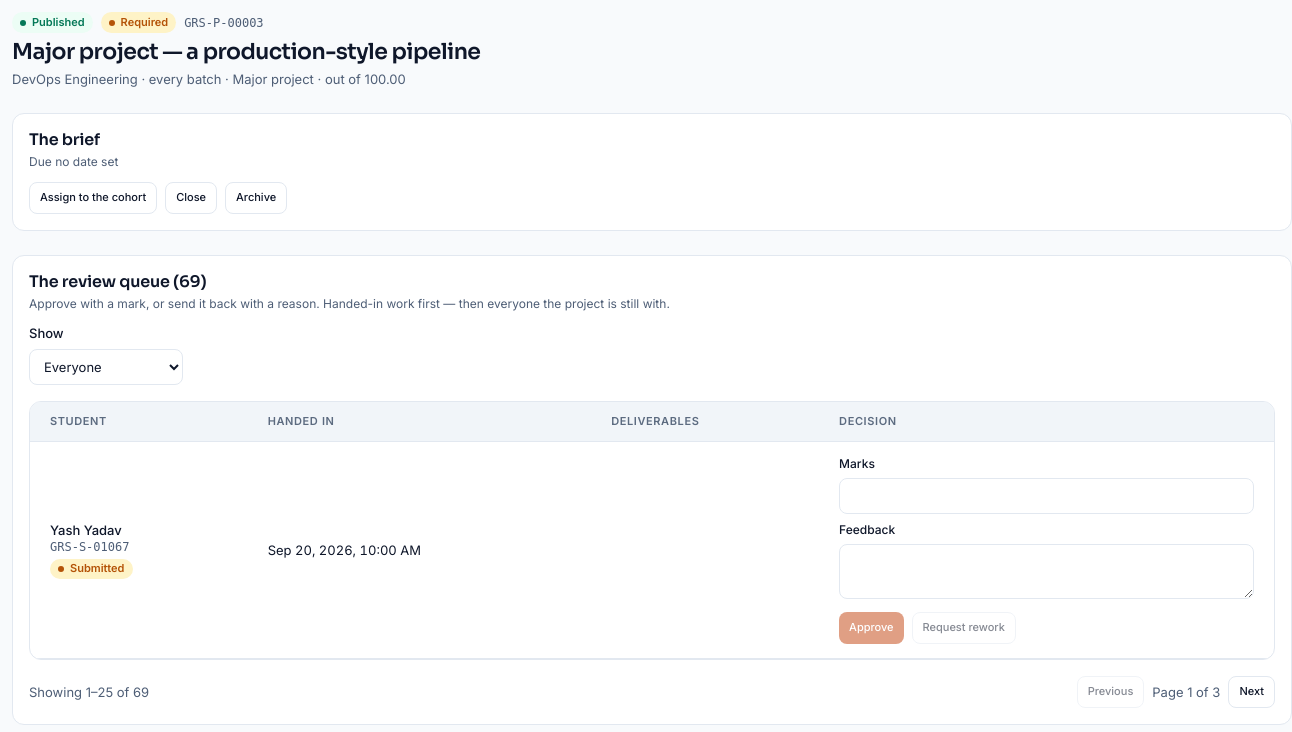
Scenario: the project review queue › says which empty it means when a filter matches nothing
Expected: the text "Yash Yadav" is shown, [50,522,122,538]
Select "Approved" in the dropdown labelled "Show" at (106, 366), box [29,348,183,384]
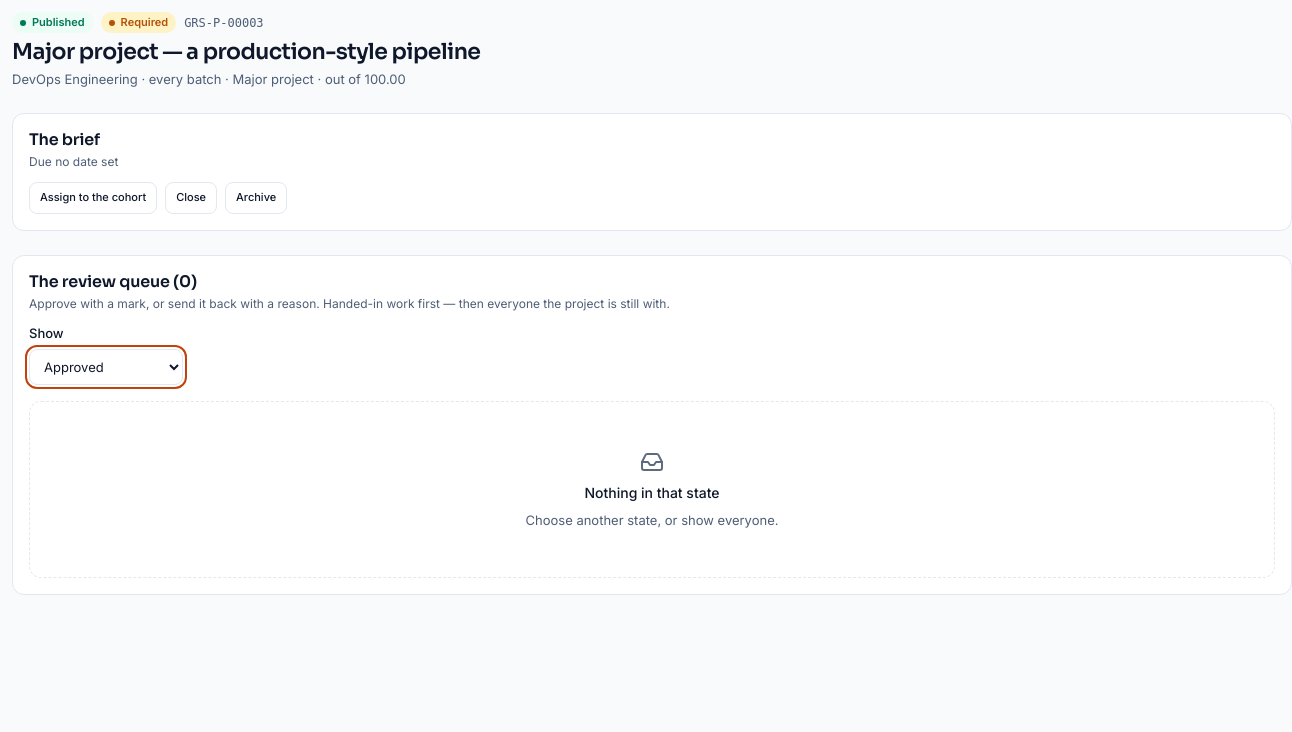
Expected: the text "Nothing in that state" is shown, [584,482,720,502]
